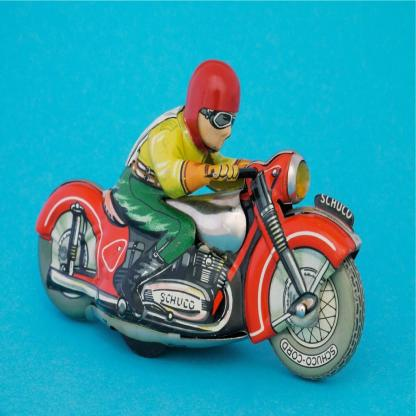Helmet: (183, 60, 241, 150)
